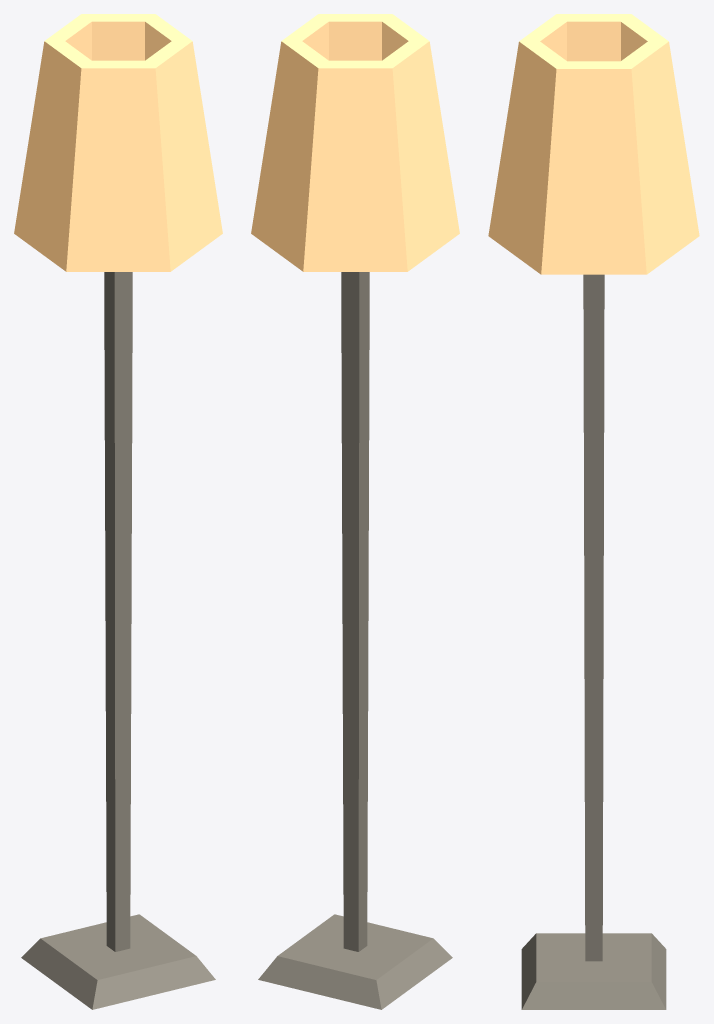
File: lampRoundFloor.glb
3 views of the same model, side by side, from view 1: azimuth 30°, elevation 25°; view 2: azimuth 150°, elevation 25°; view 3: azimuth 270°, elevation 25° (orthographic).
Parts seen in each view (by area): view 1: Mesh_lampRoundFloor_1, Mesh_lampRoundFloor; view 2: Mesh_lampRoundFloor_1, Mesh_lampRoundFloor; view 3: Mesh_lampRoundFloor_1, Mesh_lampRoundFloor.
Part boxes in pixels (<box>): Mesh_lampRoundFloor_1: <box>14,14,222,271</box>; Mesh_lampRoundFloor: <box>21,272,215,1009</box>; Mesh_lampRoundFloor_1: <box>251,14,459,271</box>; Mesh_lampRoundFloor: <box>258,272,452,1009</box>; Mesh_lampRoundFloor_1: <box>488,14,699,274</box>; Mesh_lampRoundFloor: <box>521,274,666,1009</box>.
Size of the model in its own units: 0.3041 by 1.72 by 0.3511.
